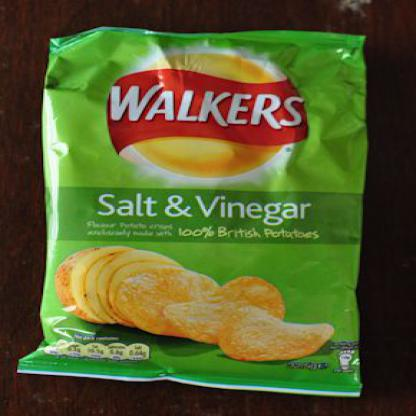potatochip: (8, 21, 384, 402)
